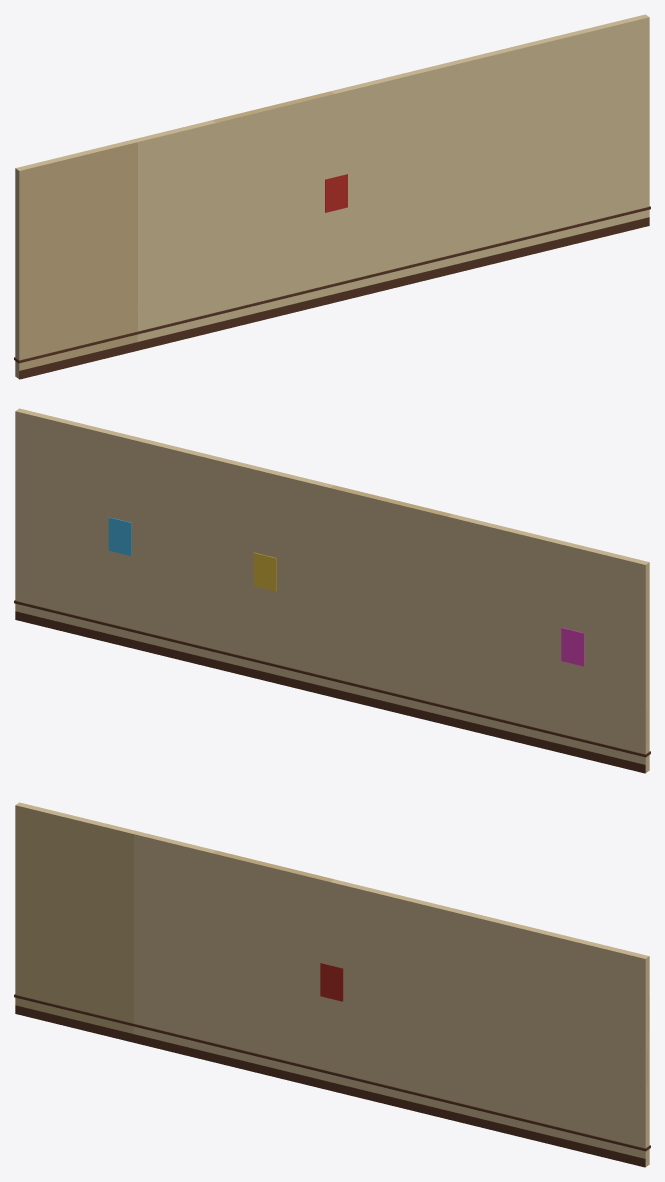
The model's file is mall_east_mid.glb.
3 views of the same model, one above another, from view 1: azimuth 30°, elevation 25°; view 2: azimuth 150°, elevation 25°; view 3: azimuth 330°, elevation 25° (orthographic).
Visible parts, largest first — view 1: Box1, Box2, Box7, Box8, Box6; view 2: Box1, Box2, Box7, Box8, Box5, Box3, Box4; view 3: Box1, Box2, Box7, Box8, Box6.
Boxes of the visible parts, bbox=[...] form: Box1: bbox=[15, 14, 649, 378]; Box2: bbox=[19, 217, 649, 379]; Box7: bbox=[15, 210, 649, 378]; Box8: bbox=[14, 206, 650, 363]; Box6: bbox=[325, 174, 347, 212]; Box1: bbox=[15, 408, 649, 772]; Box2: bbox=[15, 611, 645, 773]; Box7: bbox=[15, 604, 649, 772]; Box8: bbox=[14, 600, 650, 757]; Box5: bbox=[108, 517, 131, 555]; Box3: bbox=[561, 627, 584, 666]; Box4: bbox=[253, 552, 276, 591]; Box1: bbox=[15, 802, 649, 1166]; Box2: bbox=[15, 1005, 645, 1167]; Box7: bbox=[15, 998, 649, 1166]; Box8: bbox=[14, 994, 650, 1151]; Box6: bbox=[320, 963, 343, 1001].
Bounding box in the file's own units: 13.97 × 4.4 × 0.194.
6 materials, 1 textured.
